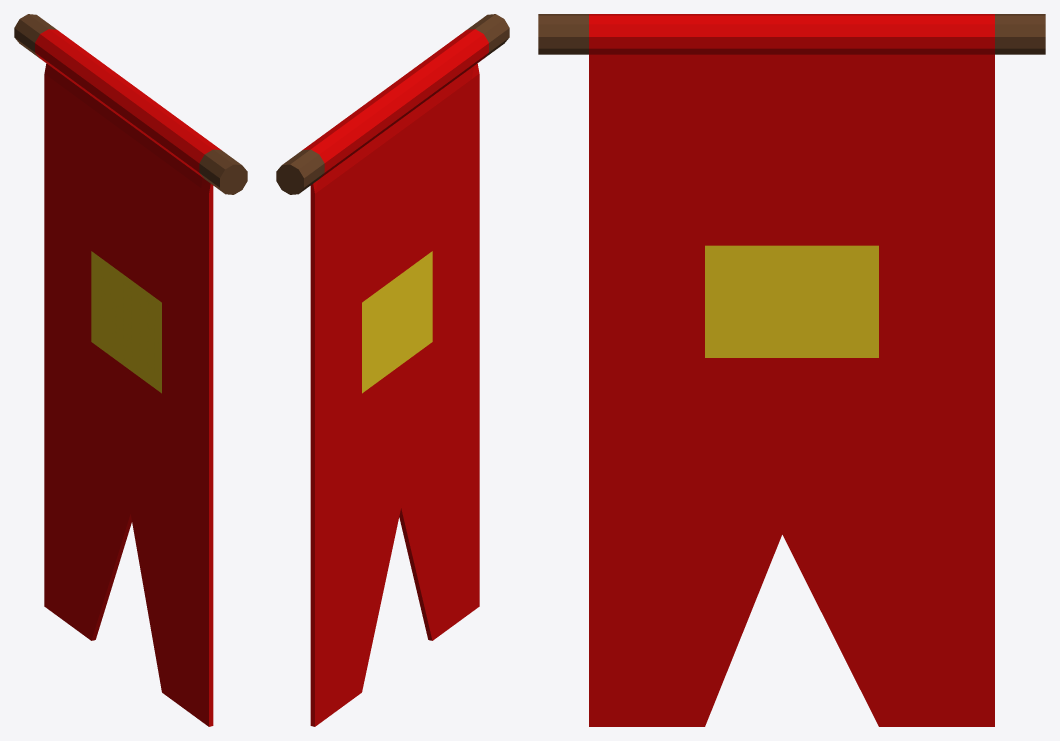
Rendered from Banner V2.fbx.
3 views of the same model, side by side, from view 1: azimuth 30°, elevation 25°; view 2: azimuth 150°, elevation 25°; view 3: azimuth 270°, elevation 25° (orthographic). The views are drawn at different scales.
Visible parts, largest first — view 1: Banner V1.001; view 2: Banner V1.001; view 3: Banner V1.001.
Boxes of the visible parts, box(x1,y1,x2,y2) form: Banner V1.001: box(14, 14, 247, 726); Banner V1.001: box(276, 14, 509, 726); Banner V1.001: box(538, 14, 1045, 726).
Bounding box in the file's own units: 6.5 × 129 × 83.45.
